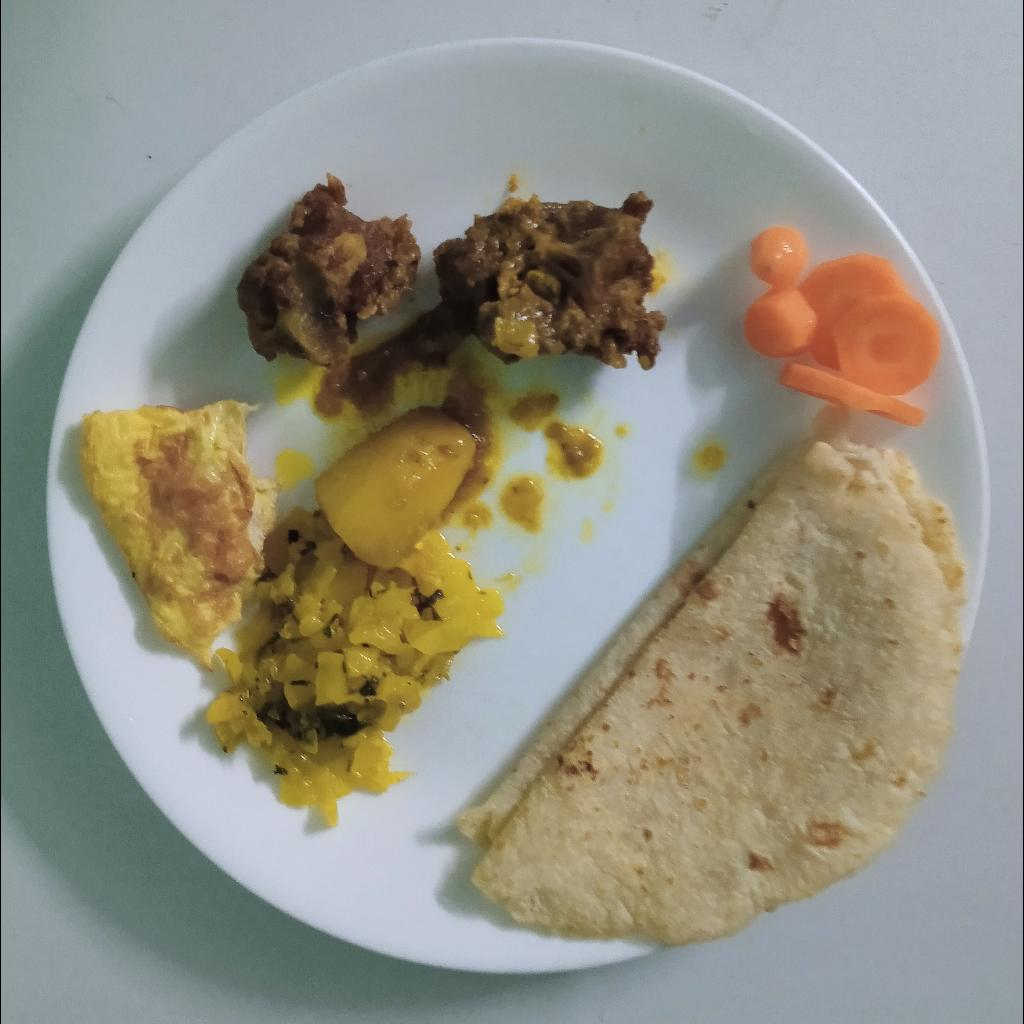beef: (432, 192, 667, 370), (239, 173, 421, 366)
carrot: (744, 226, 942, 428)
egg-poached: (81, 400, 280, 671)
ruti: (454, 405, 963, 952)
vegetable: (203, 411, 503, 824)
